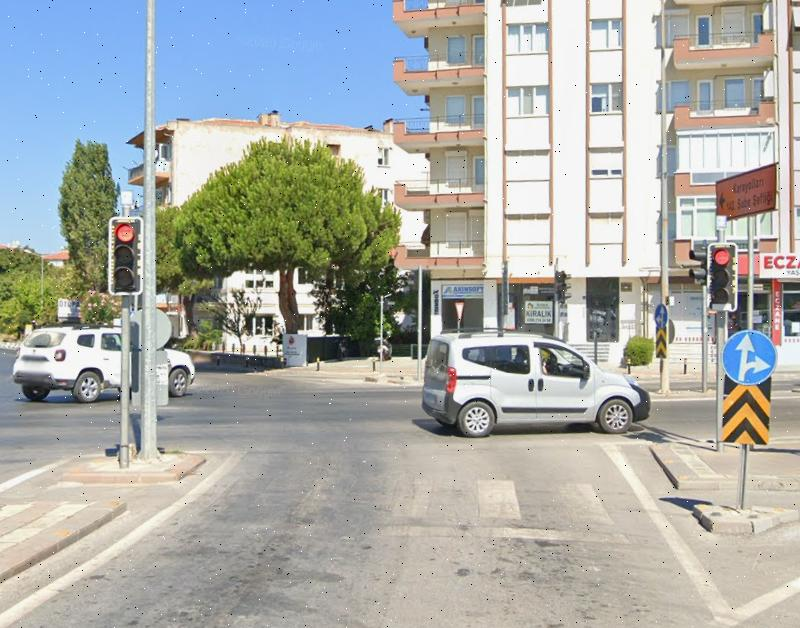redlight: (105, 215, 143, 295), (707, 243, 741, 313)
